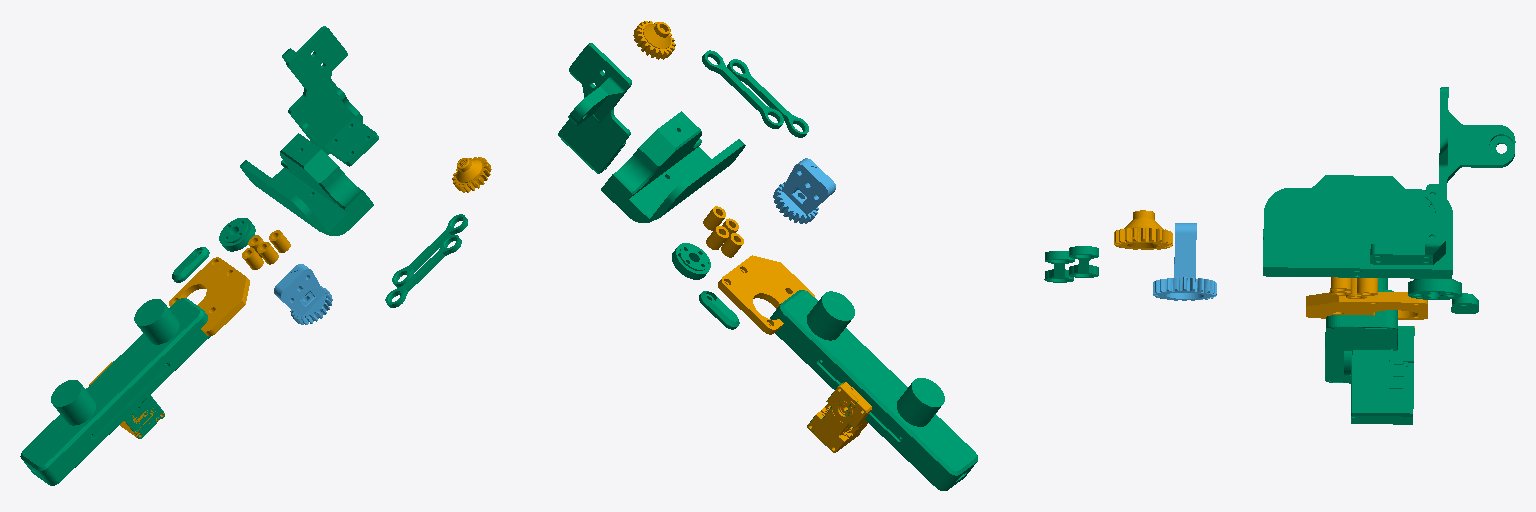
URDF robot description (twist2_neck):
<?xml version="1.0"?>
<!-- TWIST2 neck, generated by make_urdf.py from the Fusion dump.
     Frame: Z up (CAD yaw axis), X forward, Y left, origin on the yaw-servo axis.
     CAD is a closed loop (1:1 gear for yaw, parallelogram linkage for pitch); this is the
     exact 2-DOF equivalent.  Horn + two rods are fixed to head_link (they will not swing
     visually when pitched).  Masses are rescaled from Fusion's all-steel defaults. -->
<robot name="twist2_neck">
  <link name="base_link">
    <inertial>
      <origin xyz="-0.0301049 0.00376992 -0.0207523" rpy="0 0 0"/>
      <mass value="0.0744213"/>
      <inertia ixx="4.05272e-05" ixy="-9.16525e-06" ixz="-1.6852e-05" iyy="0.000135123" iyz="3.47575e-07" izz="0.000148122"/>
    </inertial>
    <visual>  <!-- base_link:1 -->
      <origin xyz="-0.0618128 0.0531288 -0.198477" rpy="1.55462 -0.603393 0.00485182"/>
      <geometry><mesh filename="meshes/base_link_1.stl" scale="0.001 0.001 0.001"/></geometry>
    </visual>
    <collision>
      <origin xyz="-0.0618128 0.0531288 -0.198477" rpy="1.55462 -0.603393 0.00485182"/>
      <geometry><mesh filename="meshes/base_link_1.stl" scale="0.001 0.001 0.001"/></geometry>
    </collision>
    <visual>  <!-- XL,XC-330:Yaw:1 -->
      <origin xyz="-0.0618128 0.0531288 -0.198477" rpy="1.55462 -0.603393 0.00485182"/>
      <geometry><mesh filename="meshes/XL_XC_330_Yaw_1.stl" scale="0.001 0.001 0.001"/></geometry>
    </visual>
    <collision>
      <origin xyz="-0.0618128 0.0531288 -0.198477" rpy="1.55462 -0.603393 0.00485182"/>
      <geometry><mesh filename="meshes/XL_XC_330_Yaw_1.stl" scale="0.001 0.001 0.001"/></geometry>
    </collision>
    <visual>  <!-- YawPlate:1 -->
      <origin xyz="-0.0618128 0.0531288 -0.198477" rpy="1.55462 -0.603393 0.00485182"/>
      <geometry><mesh filename="meshes/YawPlate_1.stl" scale="0.001 0.001 0.001"/></geometry>
    </visual>
    <collision>
      <origin xyz="-0.0618128 0.0531288 -0.198477" rpy="1.55462 -0.603393 0.00485182"/>
      <geometry><mesh filename="meshes/YawPlate_1.stl" scale="0.001 0.001 0.001"/></geometry>
    </collision>
    <visual>  <!-- MeshBody10:1 -->
      <origin xyz="-0.0618128 0.0531288 -0.198477" rpy="1.55462 -0.603393 0.00485182"/>
      <geometry><mesh filename="meshes/MeshBody10_1.stl" scale="0.001 0.001 0.001"/></geometry>
    </visual>
    <collision>
      <origin xyz="-0.0618128 0.0531288 -0.198477" rpy="1.55462 -0.603393 0.00485182"/>
      <geometry><mesh filename="meshes/MeshBody10_1.stl" scale="0.001 0.001 0.001"/></geometry>
    </collision>
    <visual>  <!-- MeshBody12:1 -->
      <origin xyz="-0.0618128 0.0531288 -0.198477" rpy="1.55462 -0.603393 0.00485182"/>
      <geometry><mesh filename="meshes/MeshBody12_1.stl" scale="0.001 0.001 0.001"/></geometry>
    </visual>
    <collision>
      <origin xyz="-0.0618128 0.0531288 -0.198477" rpy="1.55462 -0.603393 0.00485182"/>
      <geometry><mesh filename="meshes/MeshBody12_1.stl" scale="0.001 0.001 0.001"/></geometry>
    </collision>
    <visual>  <!-- MeshBody13:1 -->
      <origin xyz="-0.0618128 0.0531288 -0.198477" rpy="1.55462 -0.603393 0.00485182"/>
      <geometry><mesh filename="meshes/MeshBody13_1.stl" scale="0.001 0.001 0.001"/></geometry>
    </visual>
    <collision>
      <origin xyz="-0.0618128 0.0531288 -0.198477" rpy="1.55462 -0.603393 0.00485182"/>
      <geometry><mesh filename="meshes/MeshBody13_1.stl" scale="0.001 0.001 0.001"/></geometry>
    </collision>
    <visual>  <!-- MeshBody14:1 -->
      <origin xyz="-0.0618128 0.0531288 -0.198477" rpy="1.55462 -0.603393 0.00485182"/>
      <geometry><mesh filename="meshes/MeshBody14_1.stl" scale="0.001 0.001 0.001"/></geometry>
    </visual>
    <collision>
      <origin xyz="-0.0618128 0.0531288 -0.198477" rpy="1.55462 -0.603393 0.00485182"/>
      <geometry><mesh filename="meshes/MeshBody14_1.stl" scale="0.001 0.001 0.001"/></geometry>
    </collision>
    <visual>  <!-- MeshBody15:1 -->
      <origin xyz="-0.0618128 0.0531288 -0.198477" rpy="1.55462 -0.603393 0.00485182"/>
      <geometry><mesh filename="meshes/MeshBody15_1.stl" scale="0.001 0.001 0.001"/></geometry>
    </visual>
    <collision>
      <origin xyz="-0.0618128 0.0531288 -0.198477" rpy="1.55462 -0.603393 0.00485182"/>
      <geometry><mesh filename="meshes/MeshBody15_1.stl" scale="0.001 0.001 0.001"/></geometry>
    </collision>
    <visual>  <!-- MeshBody16:1 -->
      <origin xyz="-0.0618128 0.0531288 -0.198477" rpy="1.55462 -0.603393 0.00485182"/>
      <geometry><mesh filename="meshes/MeshBody16_1.stl" scale="0.001 0.001 0.001"/></geometry>
    </visual>
    <collision>
      <origin xyz="-0.0618128 0.0531288 -0.198477" rpy="1.55462 -0.603393 0.00485182"/>
      <geometry><mesh filename="meshes/MeshBody16_1.stl" scale="0.001 0.001 0.001"/></geometry>
    </collision>
  </link>
  <link name="yaw_link">
    <inertial>
      <origin xyz="-0.000587318 0.000391747 0.012173" rpy="0 0 0"/>
      <mass value="0.00524311"/>
      <inertia ixx="5.49347e-07" ixy="2.00899e-07" ixz="-4.91306e-08" iyy="8.44764e-07" iyz="3.42718e-08" izz="7.19079e-07"/>
    </inertial>
    <visual>  <!-- MeshBody5:1 -->
      <origin xyz="-0.0828128 0.0531288 -0.200277" rpy="1.55462 -0.603393 0.00485182"/>
      <geometry><mesh filename="meshes/MeshBody5_1.stl" scale="0.001 0.001 0.001"/></geometry>
    </visual>
    <collision>
      <origin xyz="-0.0828128 0.0531288 -0.200277" rpy="1.55462 -0.603393 0.00485182"/>
      <geometry><mesh filename="meshes/MeshBody5_1.stl" scale="0.001 0.001 0.001"/></geometry>
    </collision>
  </link>
  <link name="head_link">
    <inertial>
      <origin xyz="-0.00360449 0.00218717 0.0391574" rpy="0 0 0"/>
      <mass value="0.151487"/>
      <inertia ixx="0.000120527" ixy="9.34377e-06" ixz="-7.55398e-07" iyy="5.14944e-05" iyz="-1.2156e-06" izz="0.000134926"/>
    </inertial>
    <visual>  <!-- PitchPlate:1 -->
      <origin xyz="-0.0828227 0.0491288 -0.219277" rpy="1.55462 -0.603393 0.00485182"/>
      <geometry><mesh filename="meshes/PitchPlate_1.stl" scale="0.001 0.001 0.001"/></geometry>
    </visual>
    <collision>
      <origin xyz="-0.0828227 0.0491288 -0.219277" rpy="1.55462 -0.603393 0.00485182"/>
      <geometry><mesh filename="meshes/PitchPlate_1.stl" scale="0.001 0.001 0.001"/></geometry>
    </collision>
    <visual>  <!-- XL,XC-330:1 -->
      <origin xyz="-0.0828227 0.0491288 -0.219277" rpy="1.55462 -0.603393 0.00485182"/>
      <geometry><mesh filename="meshes/XL_XC_330_1.stl" scale="0.001 0.001 0.001"/></geometry>
    </visual>
    <collision>
      <origin xyz="-0.0828227 0.0491288 -0.219277" rpy="1.55462 -0.603393 0.00485182"/>
      <geometry><mesh filename="meshes/XL_XC_330_1.stl" scale="0.001 0.001 0.001"/></geometry>
    </collision>
    <visual>  <!-- MeshBody2:1 -->
      <origin xyz="-0.0828227 0.0491288 -0.219277" rpy="1.55462 -0.603393 0.00485182"/>
      <geometry><mesh filename="meshes/MeshBody2_1.stl" scale="0.001 0.001 0.001"/></geometry>
    </visual>
    <collision>
      <origin xyz="-0.0828227 0.0491288 -0.219277" rpy="1.55462 -0.603393 0.00485182"/>
      <geometry><mesh filename="meshes/MeshBody2_1.stl" scale="0.001 0.001 0.001"/></geometry>
    </collision>
    <visual>  <!-- ZEDM:1 -->
      <origin xyz="-0.0828227 0.0491288 -0.219277" rpy="1.55462 -0.603393 0.00485182"/>
      <geometry><mesh filename="meshes/ZEDM_1.stl" scale="0.001 0.001 0.001"/></geometry>
    </visual>
    <collision>
      <origin xyz="-0.0828227 0.0491288 -0.219277" rpy="1.55462 -0.603393 0.00485182"/>
      <geometry><mesh filename="meshes/ZEDM_1.stl" scale="0.001 0.001 0.001"/></geometry>
    </collision>
    <visual>  <!-- MeshBody17:1 -->
      <origin xyz="-0.0828227 0.0491288 -0.219277" rpy="1.55462 -0.603393 0.00485182"/>
      <geometry><mesh filename="meshes/MeshBody17_1.stl" scale="0.001 0.001 0.001"/></geometry>
    </visual>
    <collision>
      <origin xyz="-0.0828227 0.0491288 -0.219277" rpy="1.55462 -0.603393 0.00485182"/>
      <geometry><mesh filename="meshes/MeshBody17_1.stl" scale="0.001 0.001 0.001"/></geometry>
    </collision>
    <visual>  <!-- MeshBody11:1 -->
      <origin xyz="-0.0828227 0.0491288 -0.219277" rpy="1.55462 -0.603393 0.00485182"/>
      <geometry><mesh filename="meshes/MeshBody11_1.stl" scale="0.001 0.001 0.001"/></geometry>
    </visual>
    <collision>
      <origin xyz="-0.0828227 0.0491288 -0.219277" rpy="1.55462 -0.603393 0.00485182"/>
      <geometry><mesh filename="meshes/MeshBody11_1.stl" scale="0.001 0.001 0.001"/></geometry>
    </collision>
    <visual>  <!-- MeshBody8:1 -->
      <origin xyz="-0.0828227 0.0491288 -0.219277" rpy="1.55462 -0.603393 0.00485182"/>
      <geometry><mesh filename="meshes/MeshBody8_1.stl" scale="0.001 0.001 0.001"/></geometry>
    </visual>
    <collision>
      <origin xyz="-0.0828227 0.0491288 -0.219277" rpy="1.55462 -0.603393 0.00485182"/>
      <geometry><mesh filename="meshes/MeshBody8_1.stl" scale="0.001 0.001 0.001"/></geometry>
    </collision>
    <visual>  <!-- MeshBody9:1 -->
      <origin xyz="-0.0828227 0.0491288 -0.219277" rpy="1.55462 -0.603393 0.00485182"/>
      <geometry><mesh filename="meshes/MeshBody9_1.stl" scale="0.001 0.001 0.001"/></geometry>
    </visual>
    <collision>
      <origin xyz="-0.0828227 0.0491288 -0.219277" rpy="1.55462 -0.603393 0.00485182"/>
      <geometry><mesh filename="meshes/MeshBody9_1.stl" scale="0.001 0.001 0.001"/></geometry>
    </collision>
  </link>
  <joint name="neck_yaw_joint" type="revolute">
    <parent link="base_link"/><child link="yaw_link"/>
    <origin xyz="0.021 2.23812e-10 0.0018" rpy="0 0 0"/>
    <axis xyz="0 0 1"/>
    <limit lower="-1.74737" upper="1.39422" effort="0.5" velocity="6.0"/>
    <dynamics damping="0.01" friction="0"/>
  </joint>
  <joint name="neck_pitch_joint" type="revolute">
    <parent link="yaw_link"/><child link="head_link"/>
    <origin xyz="9.95208e-06 0.00399999 0.019" rpy="0 0 0"/>
    <axis xyz="0 1 0"/>
    <limit lower="-0.610865" upper="1.48353" effort="0.5" velocity="6.0"/>
    <dynamics damping="0.01" friction="0"/>
  </joint>
</robot>

--- Facts derived from the render (not from the file) ---
3 views of the same robot in one strip: view 1: azimuth 30°, elevation 25°; view 2: azimuth 150°, elevation 25°; view 3: azimuth 270°, elevation 25° (orthographic).
Robot: twist2_neck — 3 links, 2 joints (2 revolute); root link base_link; default pose: every joint at zero.
Links seen in each view (by area): view 1: head_link, base_link, yaw_link; view 2: head_link, base_link, yaw_link; view 3: head_link, base_link, yaw_link.
Link boxes in pixels (x1,y1,x2,y2): head_link: (20, 26, 467, 485); base_link: (89, 157, 491, 438); yaw_link: (274, 264, 332, 324); head_link: (558, 43, 977, 490); base_link: (633, 21, 872, 452); yaw_link: (773, 158, 835, 223); head_link: (1044, 87, 1515, 424); base_link: (1114, 210, 1427, 327); yaw_link: (1153, 223, 1216, 300).
Bounding box of the posed robot: 0.2385 × 0.174 × 0.211 m (x, y, z).
16 mesh visuals loaded from 18 distinct referenced files (16 binary STL); not drawn: 2 (reference not matched to a file when rendering).
